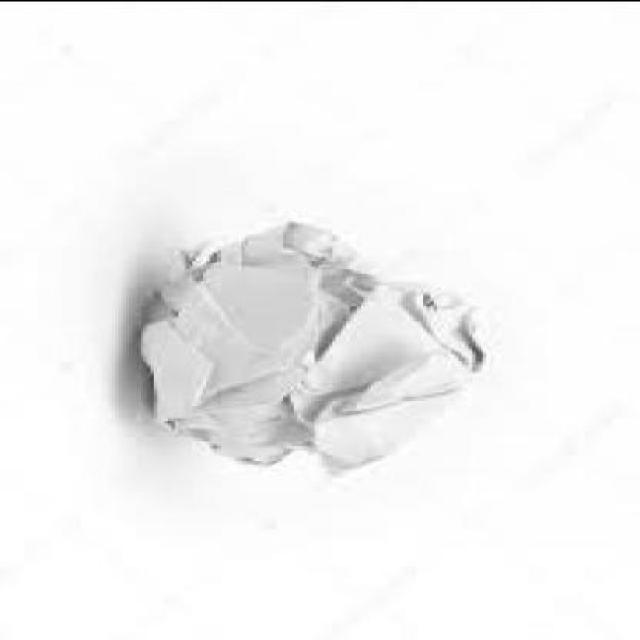PAPER: (136, 223, 493, 475)
